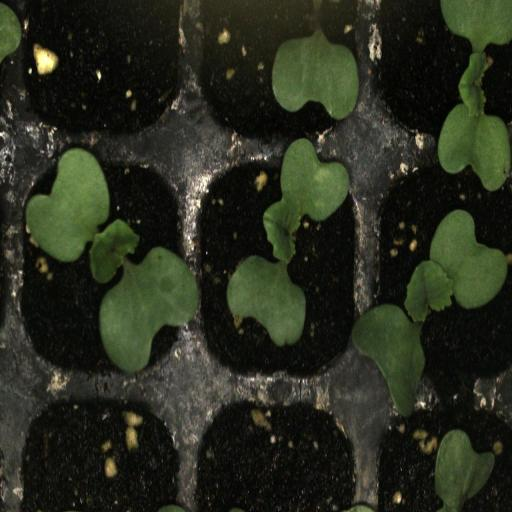noseedling: (12, 0, 188, 155)
seedling: (13, 150, 190, 383), (190, 153, 366, 386), (369, 156, 512, 384), (371, 0, 512, 157)
